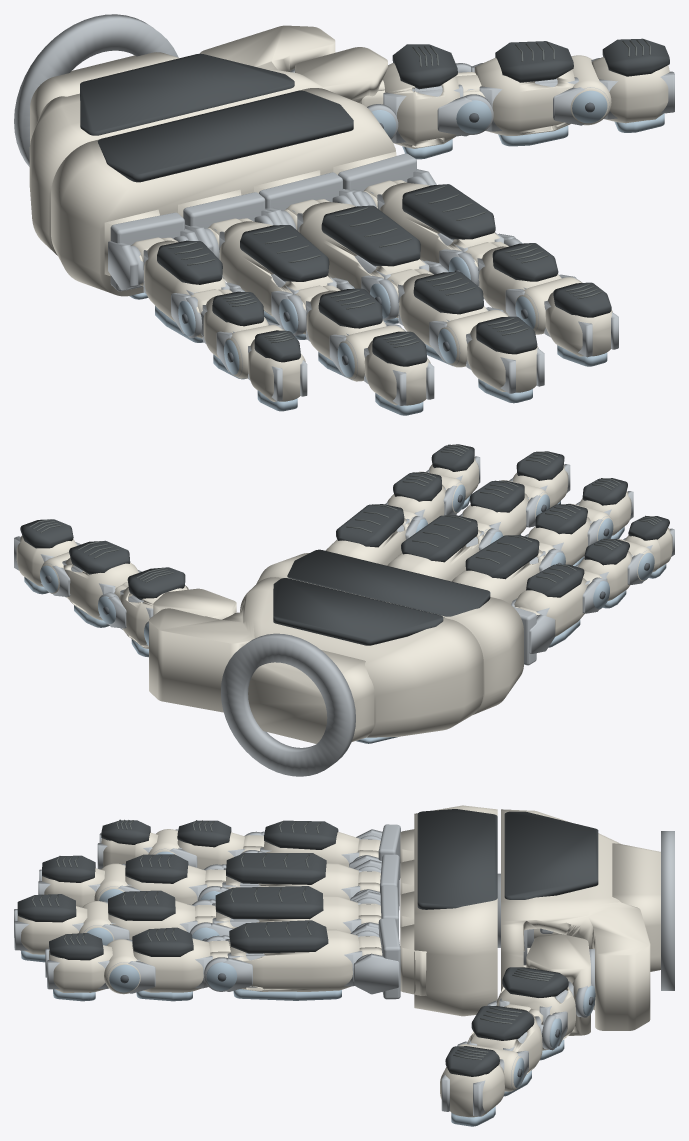
The model's file is reed11.glb.
The picture shows the model from 3 angles, top to bottom: view 1: azimuth 30°, elevation 25°; view 2: azimuth 150°, elevation 25°; view 3: azimuth 270°, elevation 25°; orthographic projection. The views are drawn at different scales.
Visible parts, largest first — view 1: visual__palm_turntable_link__1, visual__central_palm__0, visual__palm_turntable_link__3, visual__central_palm__3, visual__central_palm__1, visual__thumb_proximal__0, visual__thumb_distal__0, visual__middle_proximal__4, visual__thumb_metacarpal__0, visual__thumb_oppose_link__1, visual__middle_distal__0, visual__ring_proximal__0 (+52 smaller); view 2: visual__central_palm__0, visual__central_palm__1, visual__central_palm__3, visual__palm_turntable_link__3, visual__palm_turntable_link__1, visual__middle_proximal__4, visual__ring_proximal__4, visual__index_proximal__4, visual__thumb_proximal__0, visual__little_proximal__0, visual__ring_proximal__0, visual__thumb_oppose_link__1 (+31 smaller); view 3: visual__central_palm__0, visual__palm_turntable_link__1, visual__palm_turntable_link__3, visual__central_palm__3, visual__index_proximal__0, visual__middle_proximal__4, visual__thumb_oppose_link__1, visual__ring_proximal__4, visual__index_proximal__4, visual__index_mount__0, visual__index_distal__0, visual__central_palm__1 (+42 smaller).
Part boxes in pixels (left/top/right/bottom): visual__palm_turntable_link__1: left=51, top=88, right=396, bottom=296; visual__central_palm__0: left=29, top=25, right=335, bottom=255; visual__palm_turntable_link__3: left=97, top=90, right=353, bottom=182; visual__central_palm__3: left=80, top=53, right=294, bottom=135; visual__central_palm__1: left=14, top=14, right=294, bottom=166; visual__thumb_proximal__0: left=474, top=57, right=574, bottom=135; visual__thumb_distal__0: left=570, top=55, right=669, bottom=125; visual__middle_proximal__4: left=321, top=205, right=420, bottom=266; visual__thumb_metacarpal__0: left=383, top=63, right=485, bottom=148; visual__thumb_oppose_link__1: left=295, top=47, right=387, bottom=106; visual__middle_distal__0: left=438, top=310, right=538, bottom=392; visual__ring_proximal__0: left=219, top=221, right=340, bottom=334; visual__central_palm__0: left=149, top=577, right=483, bottom=743; visual__central_palm__1: left=221, top=633, right=355, bottom=776; visual__central_palm__3: left=273, top=578, right=443, bottom=645; visual__palm_turntable_link__3: left=287, top=549, right=490, bottom=617; visual__palm_turntable_link__1: left=256, top=553, right=523, bottom=714; visual__middle_proximal__4: left=401, top=515, right=477, bottom=562; visual__ring_proximal__4: left=465, top=535, right=539, bottom=579; visual__index_proximal__4: left=336, top=504, right=404, bottom=547; visual__thumb_proximal__0: left=63, top=557, right=138, bottom=620; visual__little_proximal__0: left=514, top=570, right=602, bottom=636; visual__ring_proximal__0: left=452, top=542, right=554, bottom=604; visual__thumb_oppose_link__1: left=153, top=588, right=236, bottom=619; visual__central_palm__0: left=501, top=809, right=660, bottom=1030; visual__palm_turntable_link__1: left=400, top=805, right=497, bottom=1016; visual__palm_turntable_link__3: left=417, top=809, right=497, bottom=909; visual__central_palm__3: left=504, top=811, right=598, bottom=899; visual__index_proximal__0: left=208, top=929, right=359, bottom=991; visual__middle_proximal__4: left=215, top=886, right=323, bottom=919; visual__thumb_oppose_link__1: left=526, top=934, right=590, bottom=1035; visual__ring_proximal__4: left=226, top=853, right=326, bottom=884; visual__index_proximal__4: left=229, top=920, right=328, bottom=953; visual__index_mount__0: left=350, top=918, right=400, bottom=999; visual__index_distal__0: left=49, top=939, right=140, bottom=994; visual__central_palm__1: left=523, top=831, right=674, bottom=1005.
Size of the model in its own units: 0.1752 by 0.046 by 0.1901.
